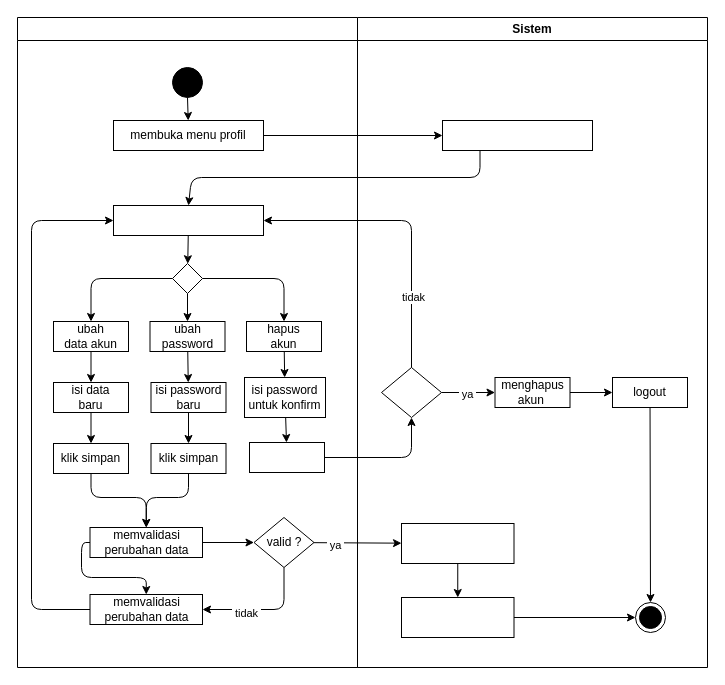
Some shapes in this 725 by 685 pixel diagram are drawn without their labels. The box of each missing label's shape, as (x1, y1, x2, y2) in pixels:
confirm: (380, 366, 442, 418)
konfirmasi: (248, 442, 324, 472)
menampilkan data akun: (442, 120, 592, 150)
menampilkan notif sukses: (400, 596, 514, 638)
menyimpan perubahan data: (400, 522, 514, 564)
pilih aksi: (112, 204, 264, 236)
Super Admin: (16, 16, 358, 668)
